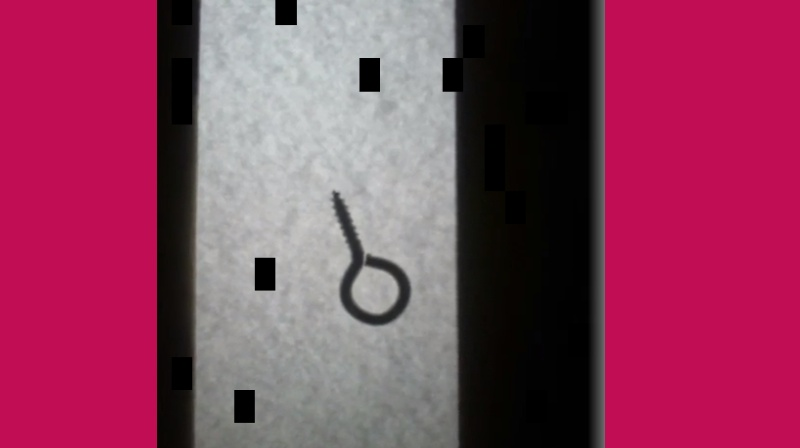O001: (326, 186, 413, 328)
